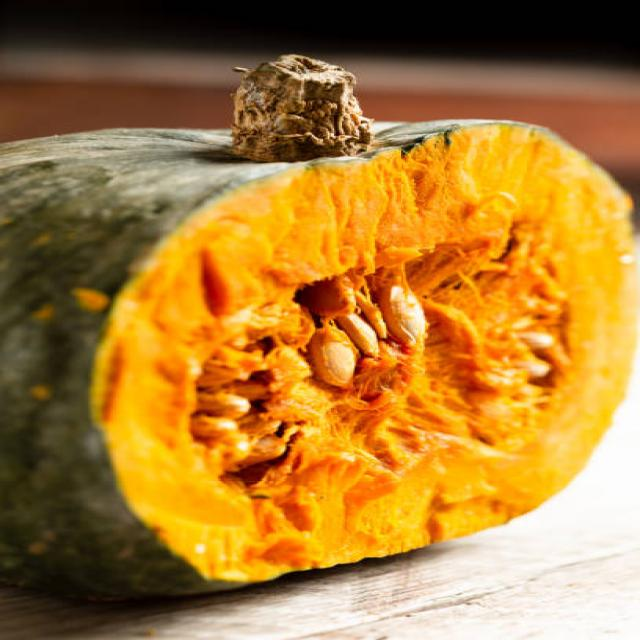Pumpkin: (8, 79, 640, 596)
